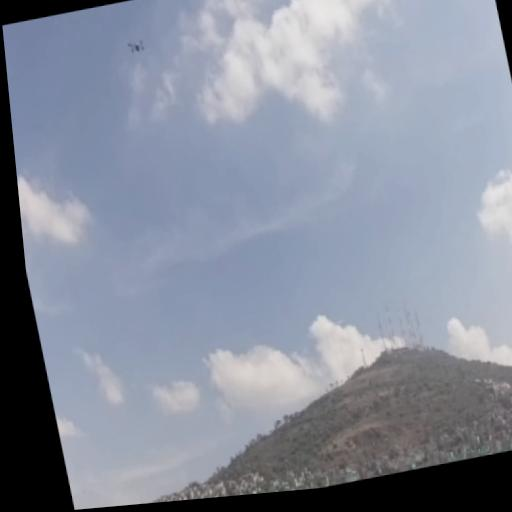drones: (123, 32, 153, 62)
